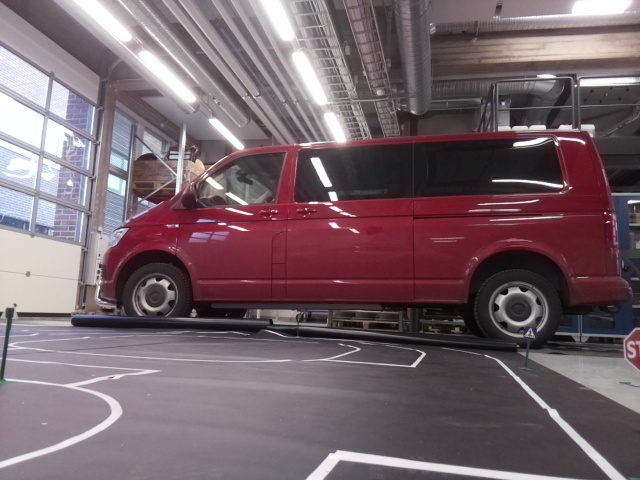Crosswalk: (522, 324, 535, 341)
